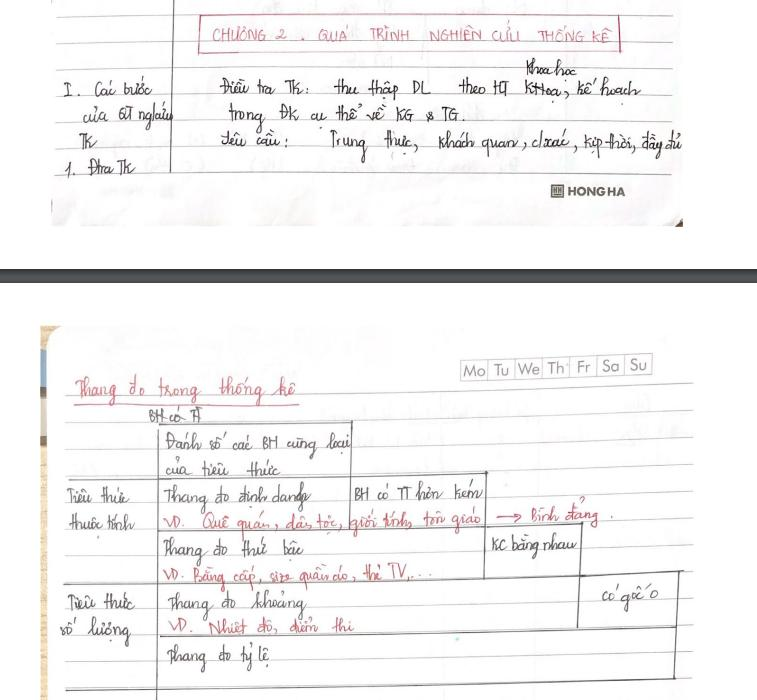text: (327, 126, 685, 167), (217, 73, 642, 101), (163, 504, 483, 541), (210, 21, 616, 47), (160, 560, 434, 594), (225, 99, 466, 134), (72, 371, 297, 407), (161, 430, 353, 462), (159, 480, 314, 514), (166, 614, 358, 639), (166, 590, 310, 623), (163, 534, 306, 567), (461, 355, 648, 380), (351, 475, 486, 504), (164, 640, 273, 675), (160, 453, 284, 481), (80, 98, 175, 131), (531, 490, 604, 529), (57, 614, 134, 649), (489, 530, 580, 559), (61, 73, 155, 100), (65, 509, 137, 539), (61, 155, 137, 182), (599, 581, 660, 614), (65, 590, 137, 615), (217, 127, 289, 151), (523, 53, 579, 83), (65, 482, 132, 507), (147, 404, 203, 426), (565, 184, 626, 201), (78, 131, 99, 153)
